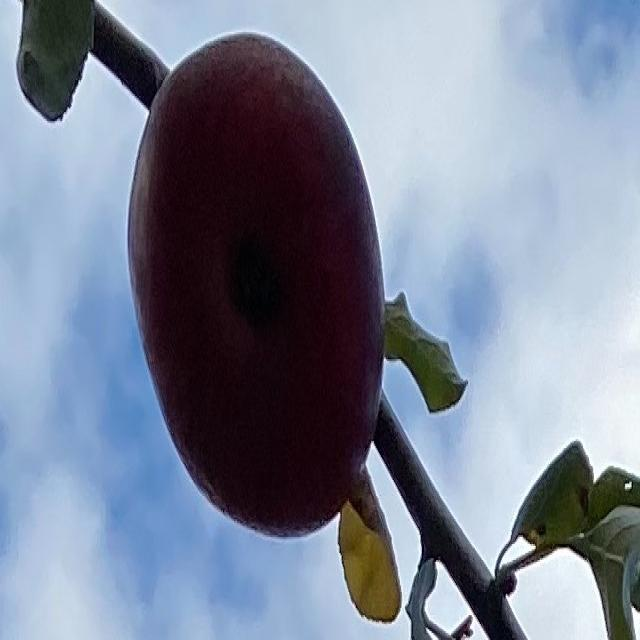100-_ripeness: (125, 30, 388, 539)
